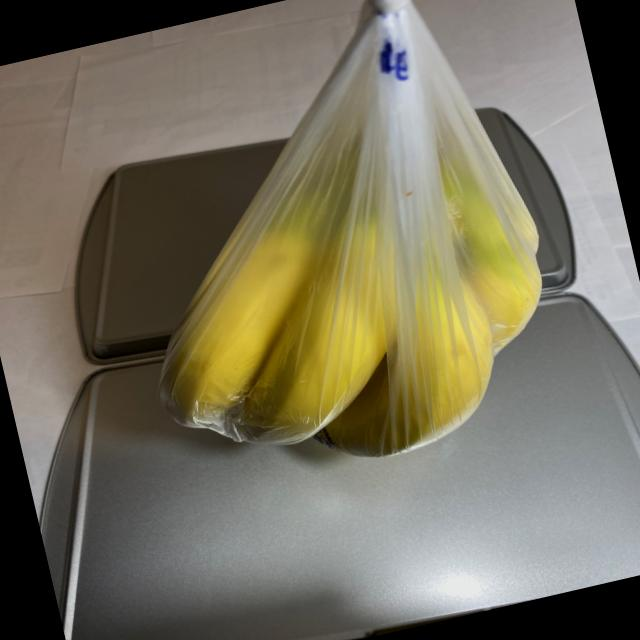banana: (107, 109, 581, 508)
